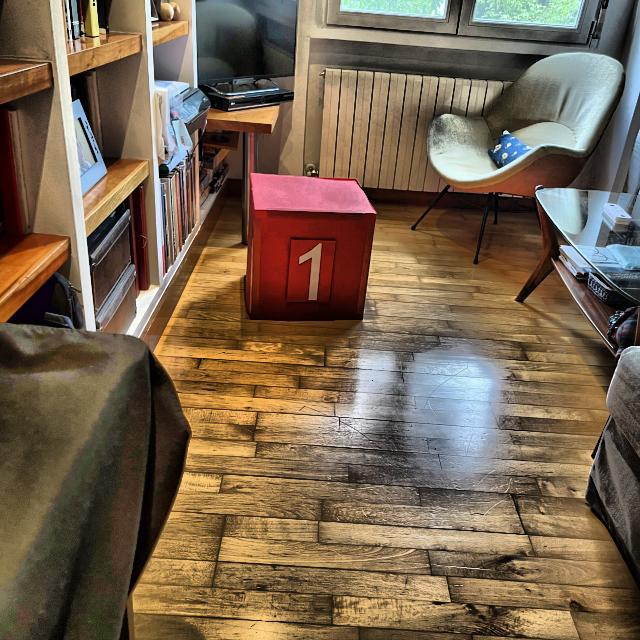one: (298, 242, 324, 301)
red box: (248, 171, 376, 321)
